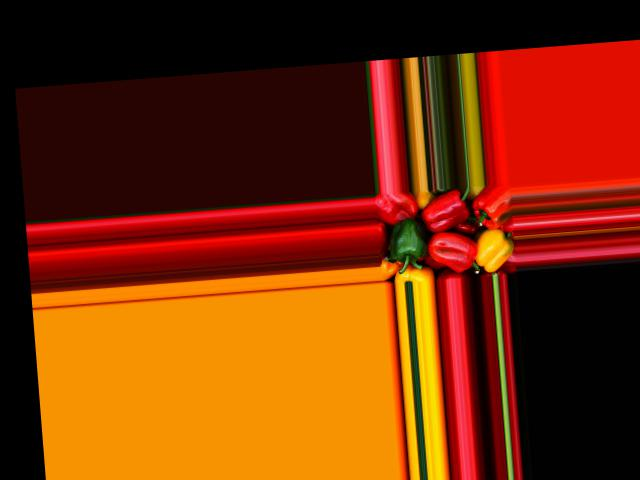bell_pepper: (470, 223, 516, 275)
